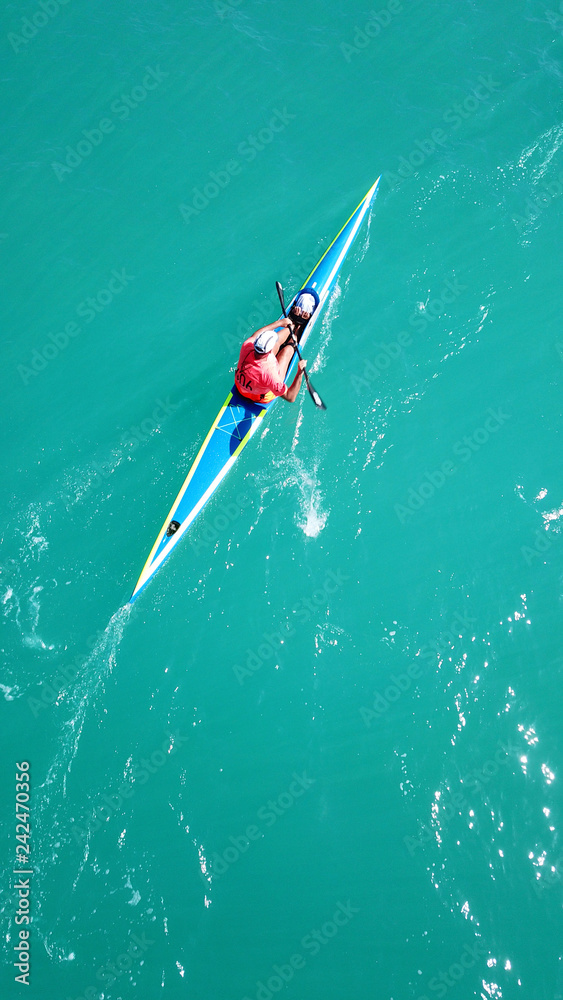kayaker: (122, 166, 390, 614)
